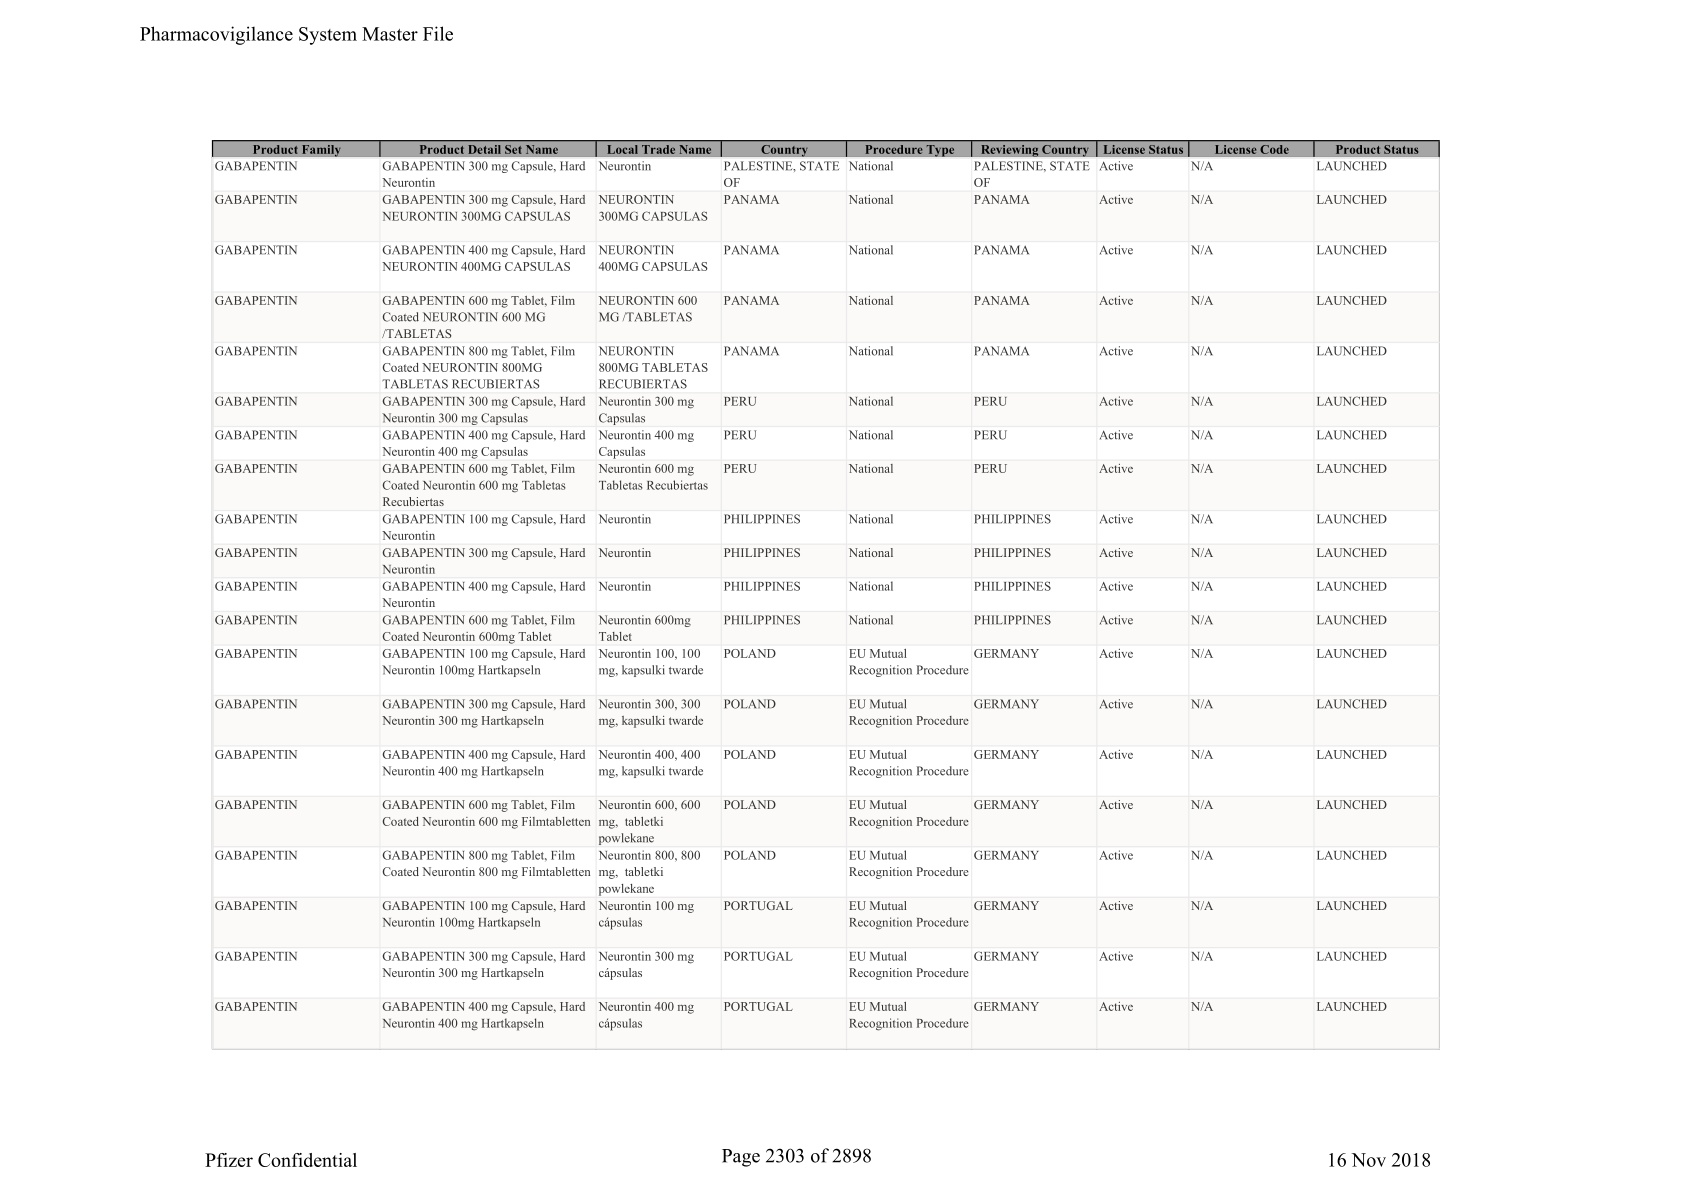full_lined: (206, 134, 1450, 1058)
